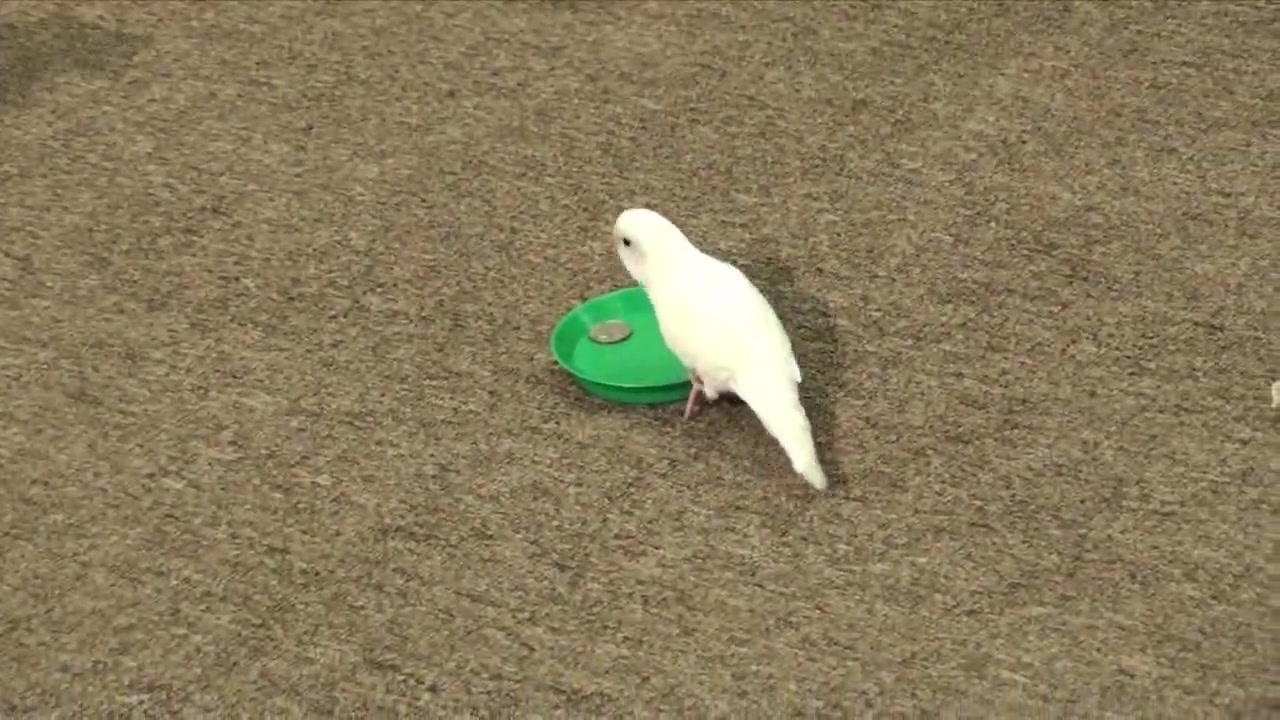bird: (613, 209, 830, 492)
